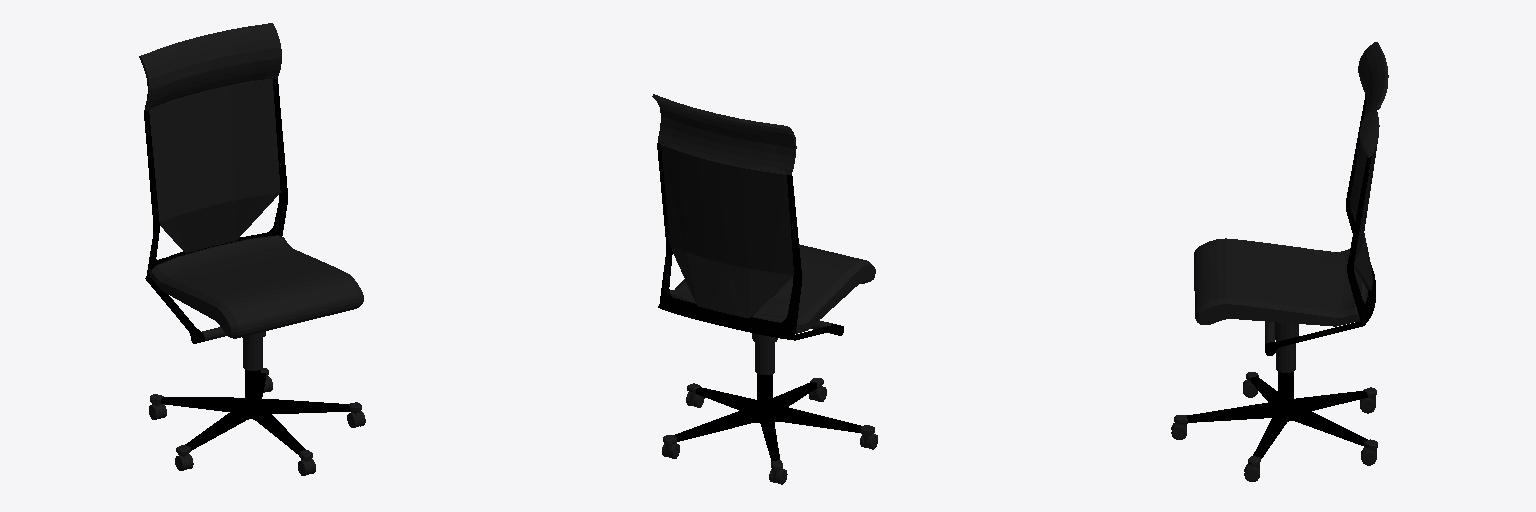
The model's file is cho036.obj.
3 renders of one model, left to right at view 1: azimuth 30°, elevation 25°; view 2: azimuth 150°, elevation 25°; view 3: azimuth 270°, elevation 25°, orthographic.
Visible parts, largest first — view 1: ARMCHAIR_0; view 2: ARMCHAIR_0; view 3: ARMCHAIR_0.
Part boxes in pixels (left/top/right/bottom): ARMCHAIR_0: left=139, top=23, right=365, bottom=475; ARMCHAIR_0: left=652, top=94, right=877, bottom=484; ARMCHAIR_0: left=1171, top=42, right=1388, bottom=481.
Size of the model in its own units: 60.69 by 114 by 61.75.